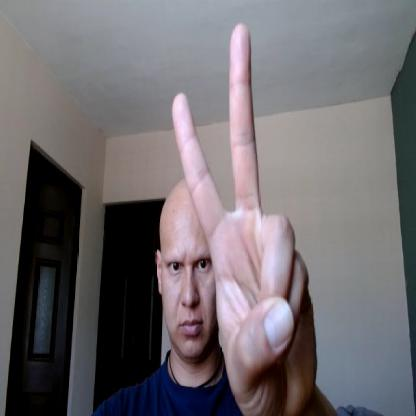V: (171, 22, 317, 416)
